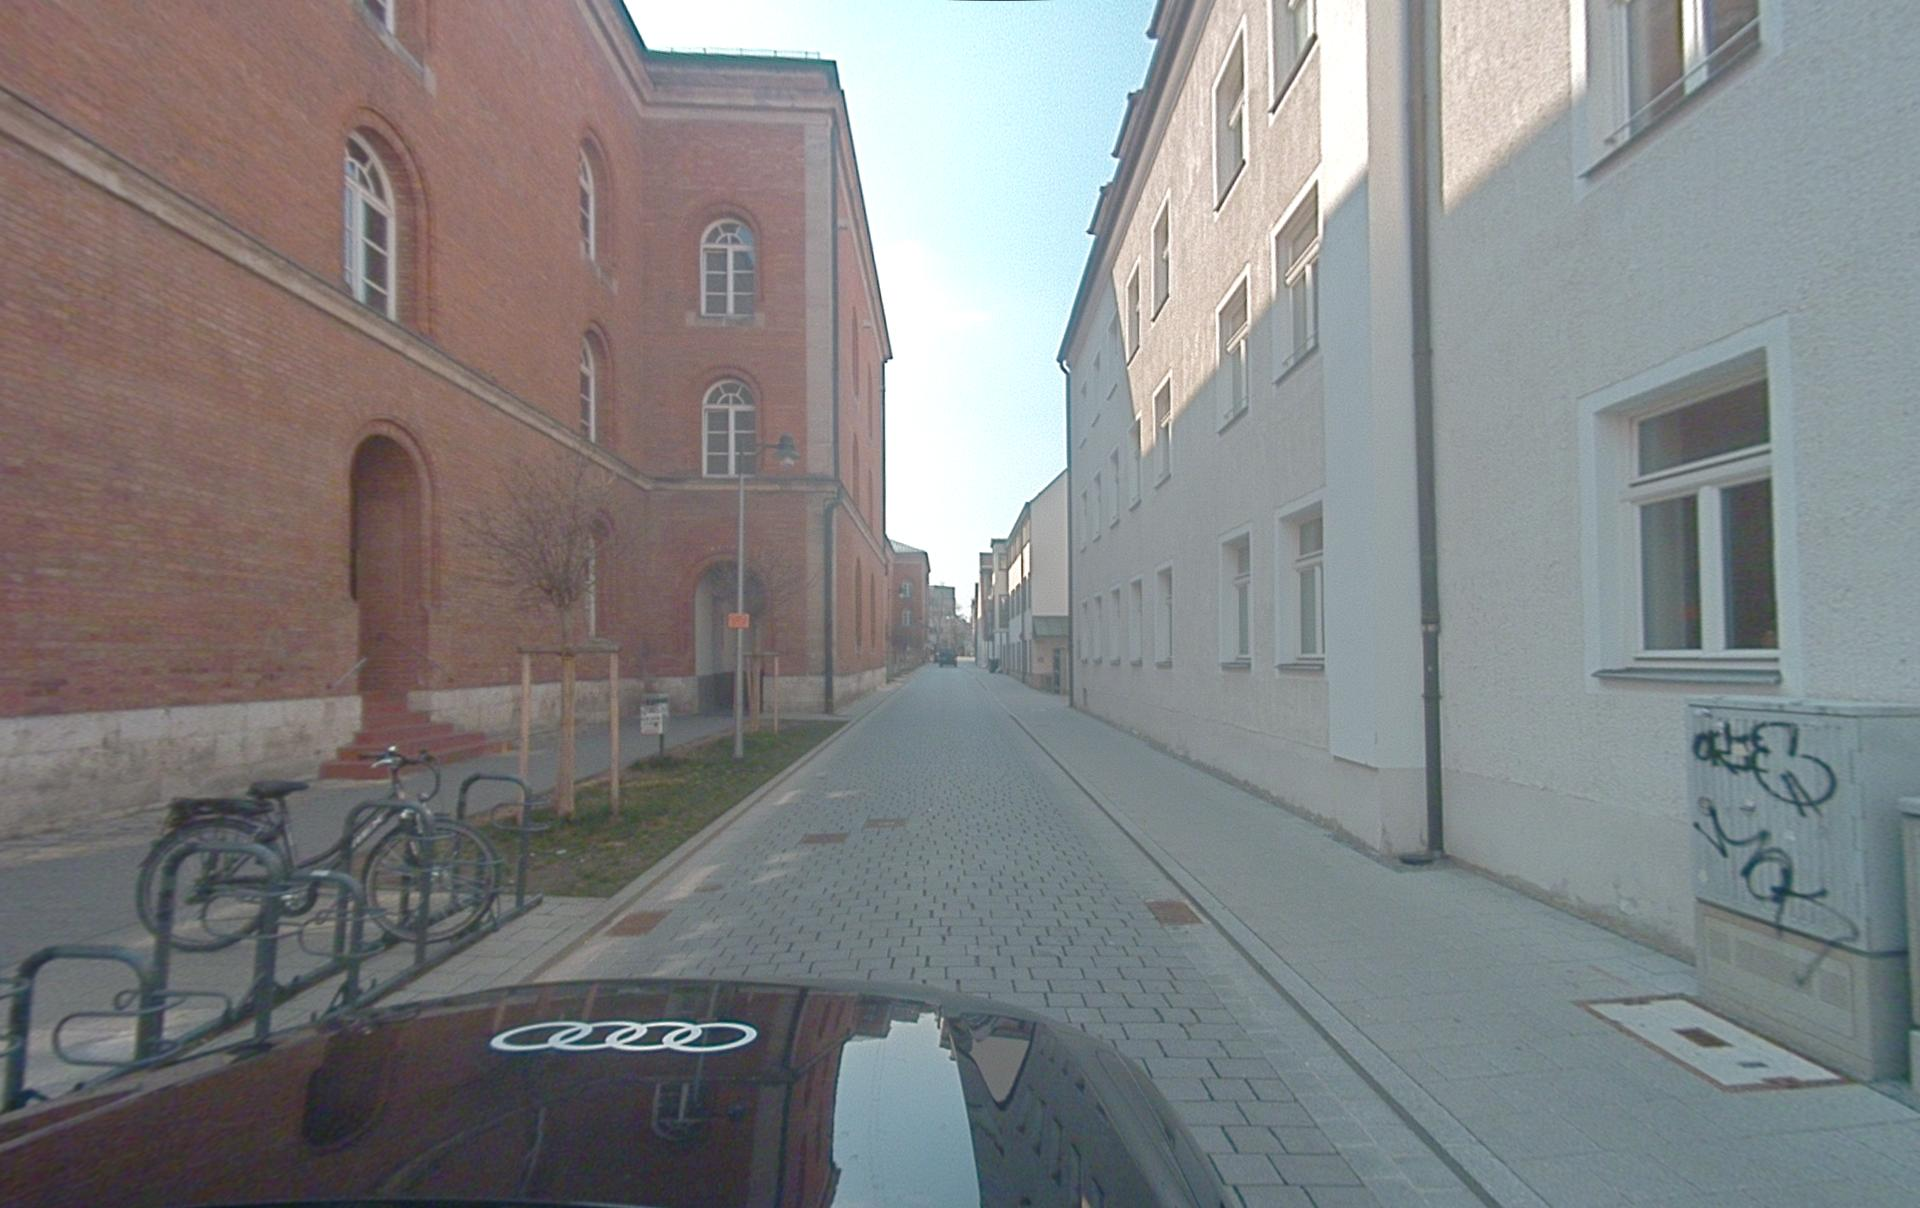car: (1, 974, 1241, 1207), (935, 649, 957, 668)
